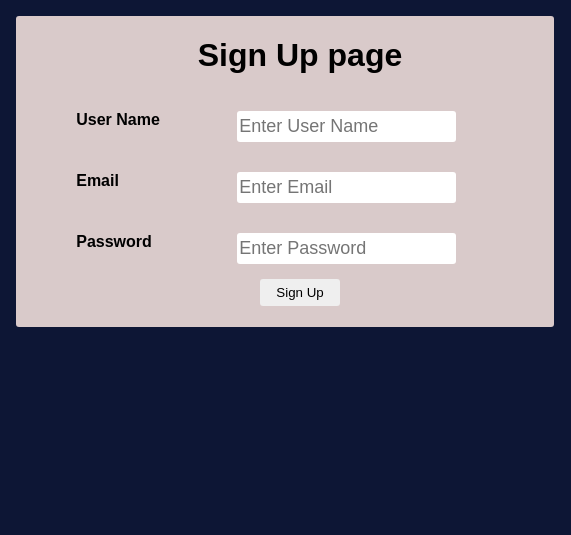
testing for signUp Page › when username is Invalid and submit th form
Click the button: x=300, y=292 left=260, top=279, right=340, bottom=306
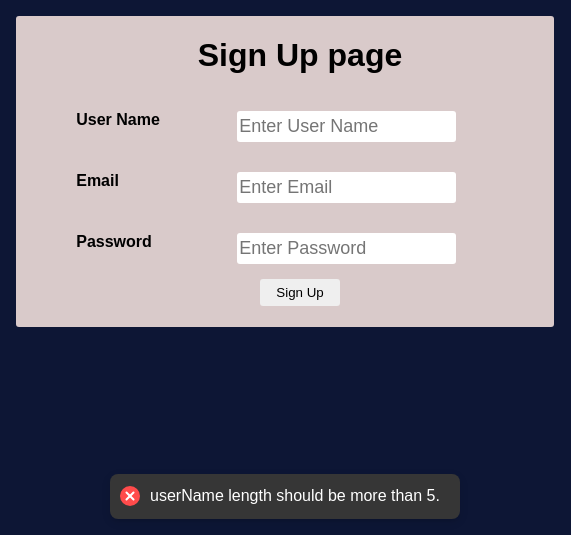
expect the text "userName length should be more than 5." is shown: met, box left=150, top=486, right=440, bottom=507
